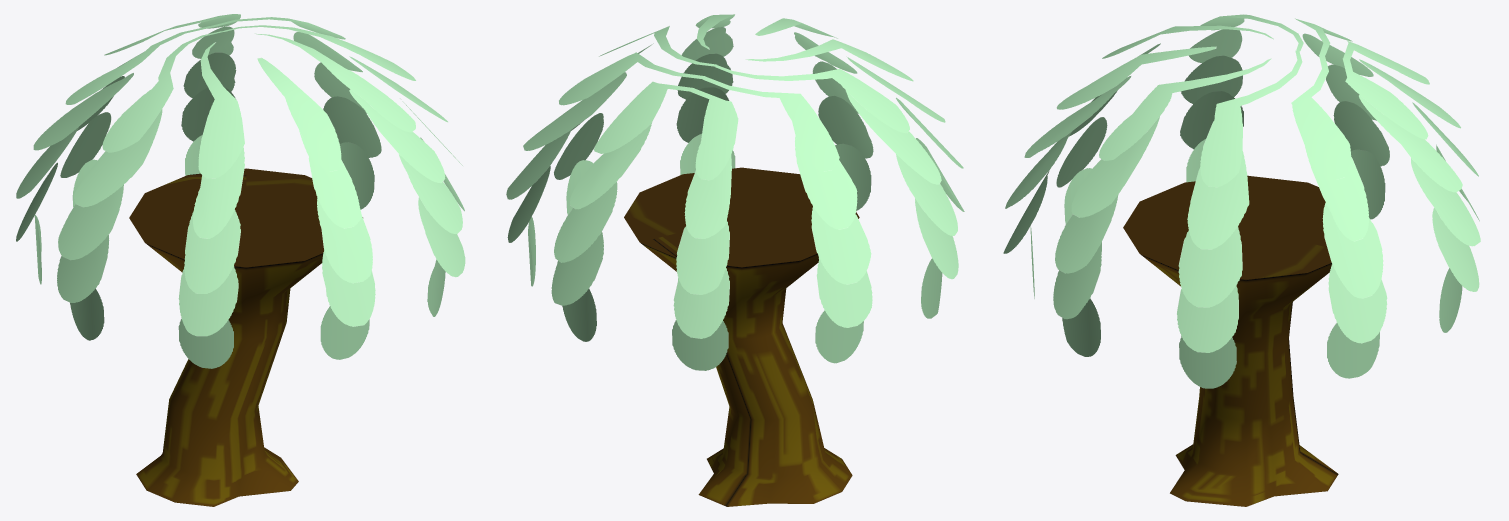
The model's file is NewTree.FBX.
3 views of the same model, side by side, from view 1: azimuth 30°, elevation 25°; view 2: azimuth 150°, elevation 25°; view 3: azimuth 270°, elevation 25° (orthographic). The views are drawn at different scales.
Visible parts, largest first — view 1: GlobeTree; view 2: GlobeTree; view 3: GlobeTree.
Part boxes in pixels (x1,y1,x2,y2): GlobeTree: (16,14,465,506); GlobeTree: (506,14,964,506); GlobeTree: (1003,14,1480,506).
Bounding box in the file's own units: 9.5 × 9.51 × 9.5.
